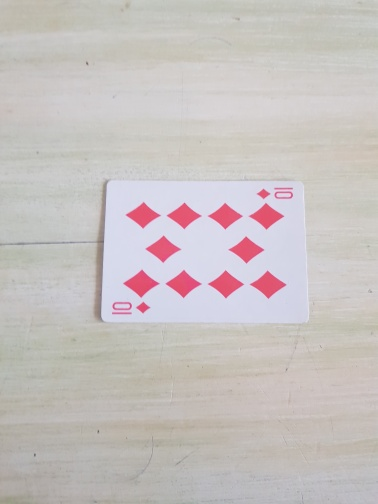ten: (100, 179, 310, 324)
